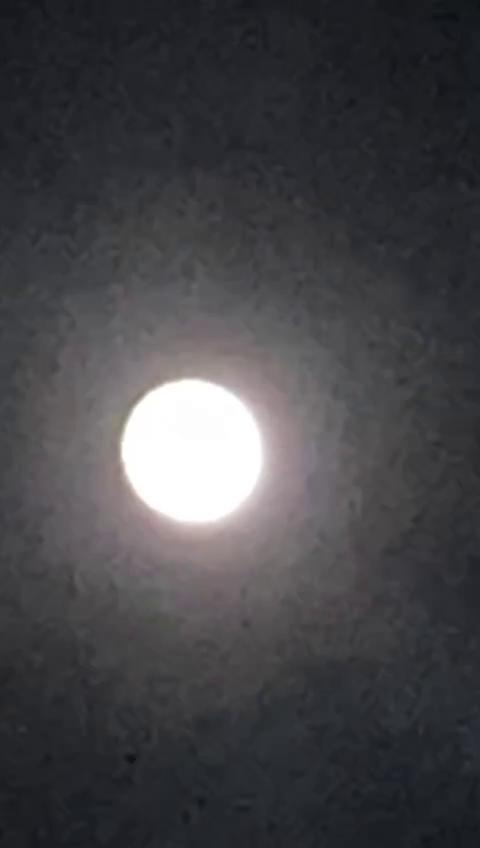moon: (86, 322, 258, 514)
